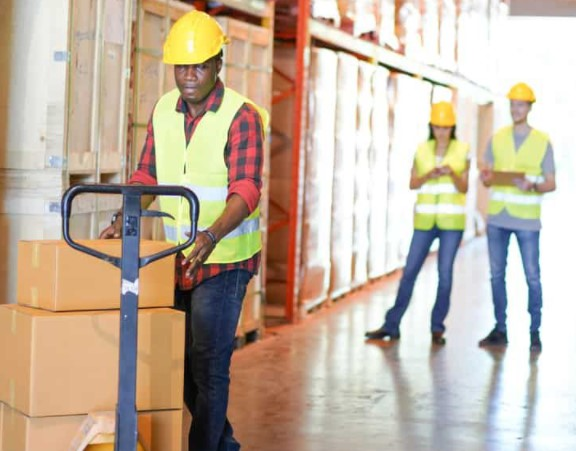worker: (155, 10, 263, 261)
